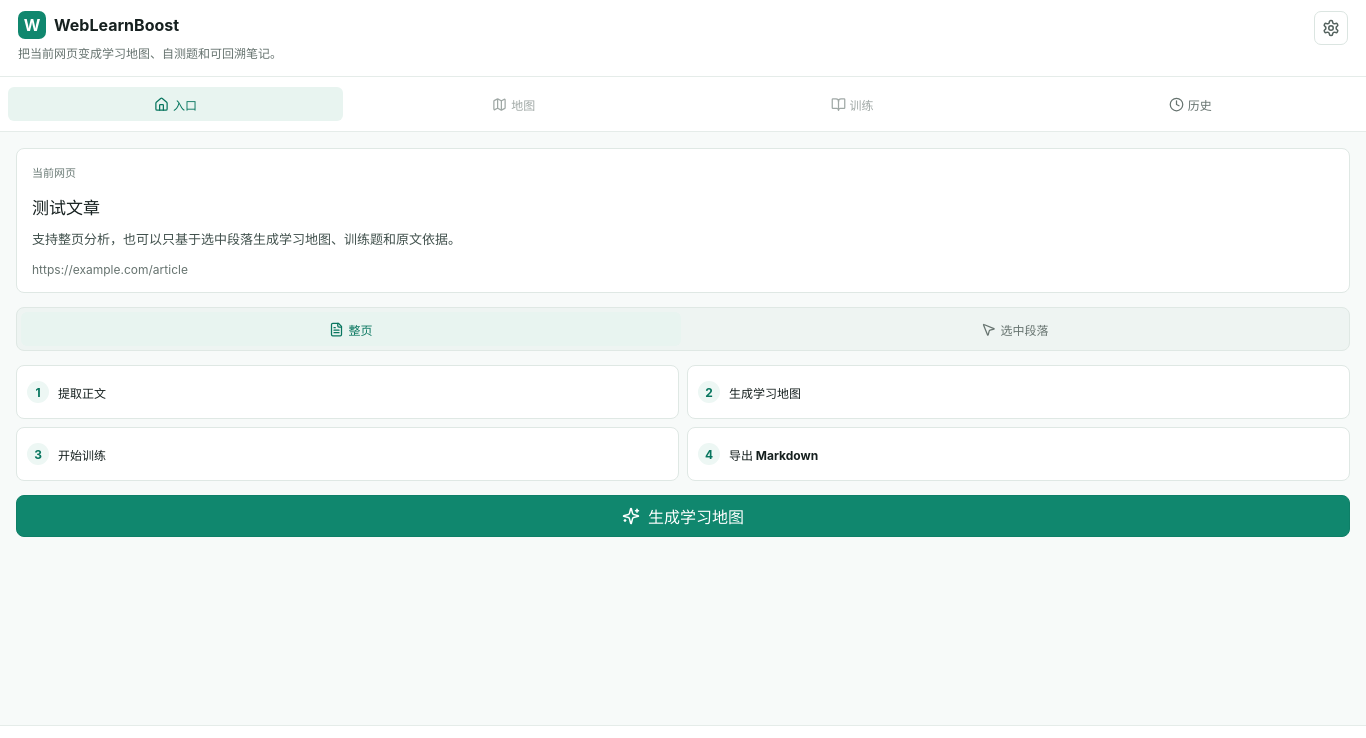
Test: AppView learning flow › keeps the user on a wrong question and marks the error clearly
Click the button "生成学习地图". click: x=683, y=516
box: [16,496,1350,538]
(page scrolled)
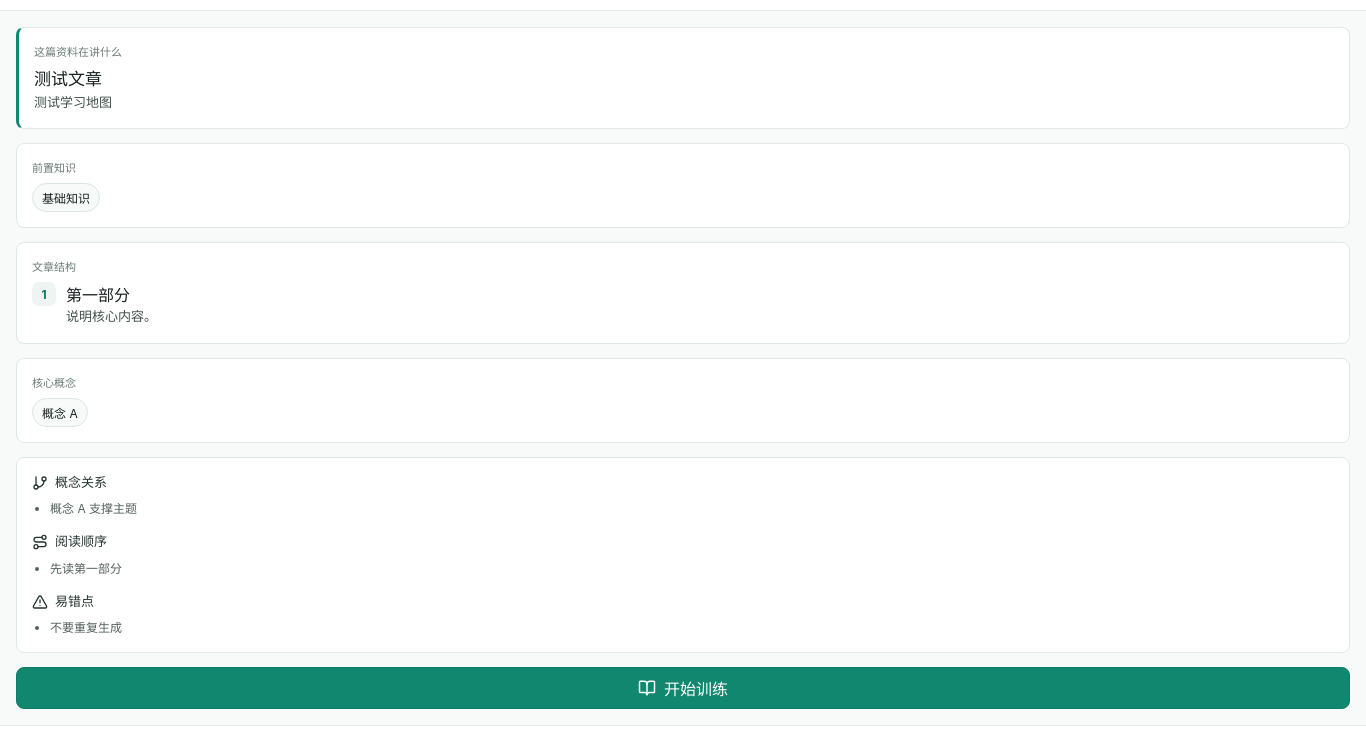
Click the button "开始训练". click: x=683, y=688
box: [16,667,1350,709]
(page scrolled)
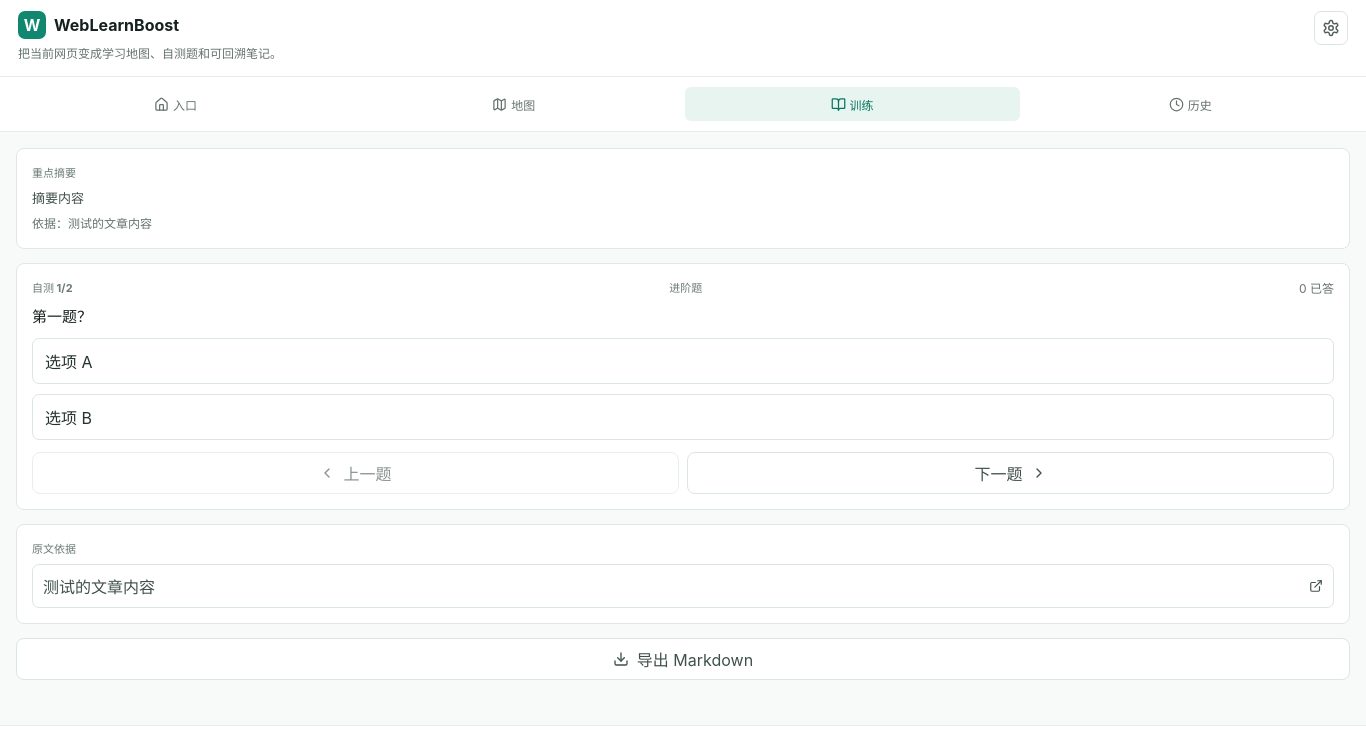
Click the button "选项 B". click: x=68, y=418
box: [32,394,1334,440]
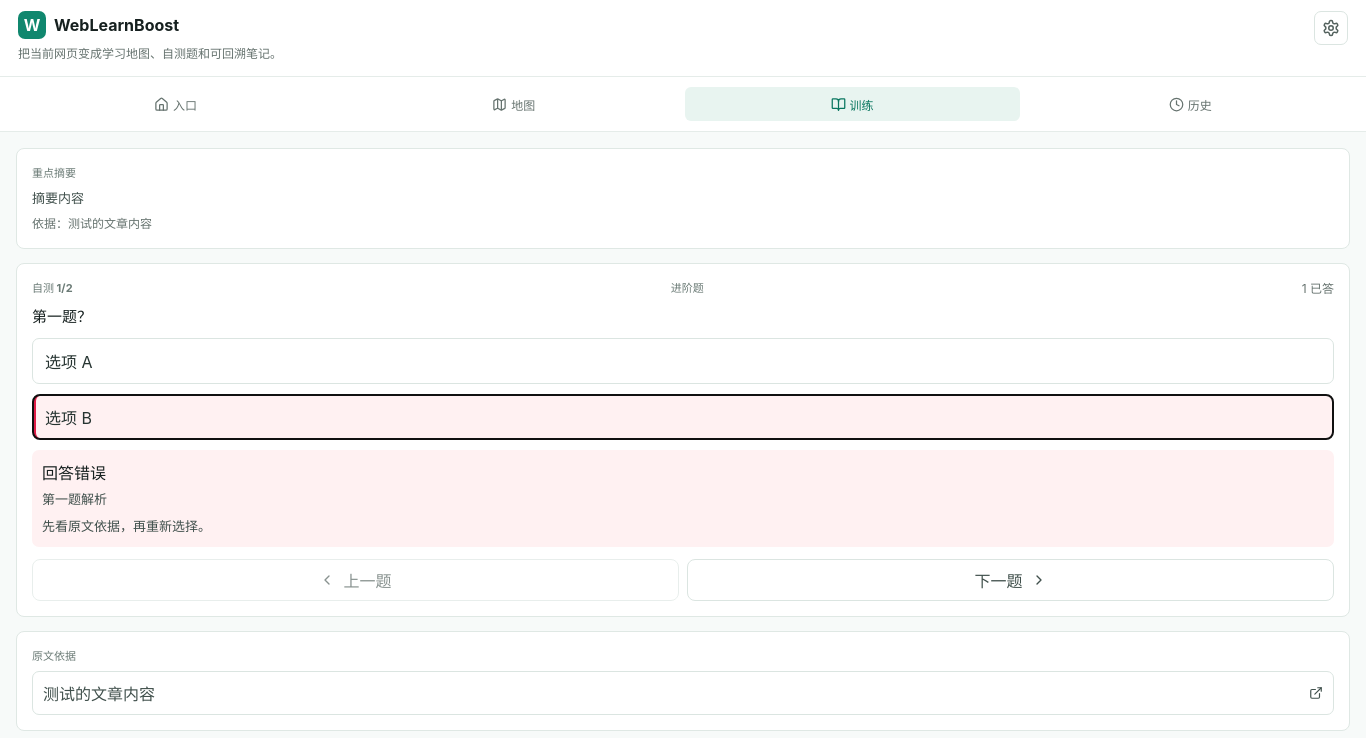
Expected: the heading "第一题？" is shown, [32,307,92,326]
Expected: the button "下一题" is enabled
Expected: the text "回答错误" is shown, [42,463,106,483]
Click the button "下一题". click: x=1010, y=580
box: [687,559,1334,601]
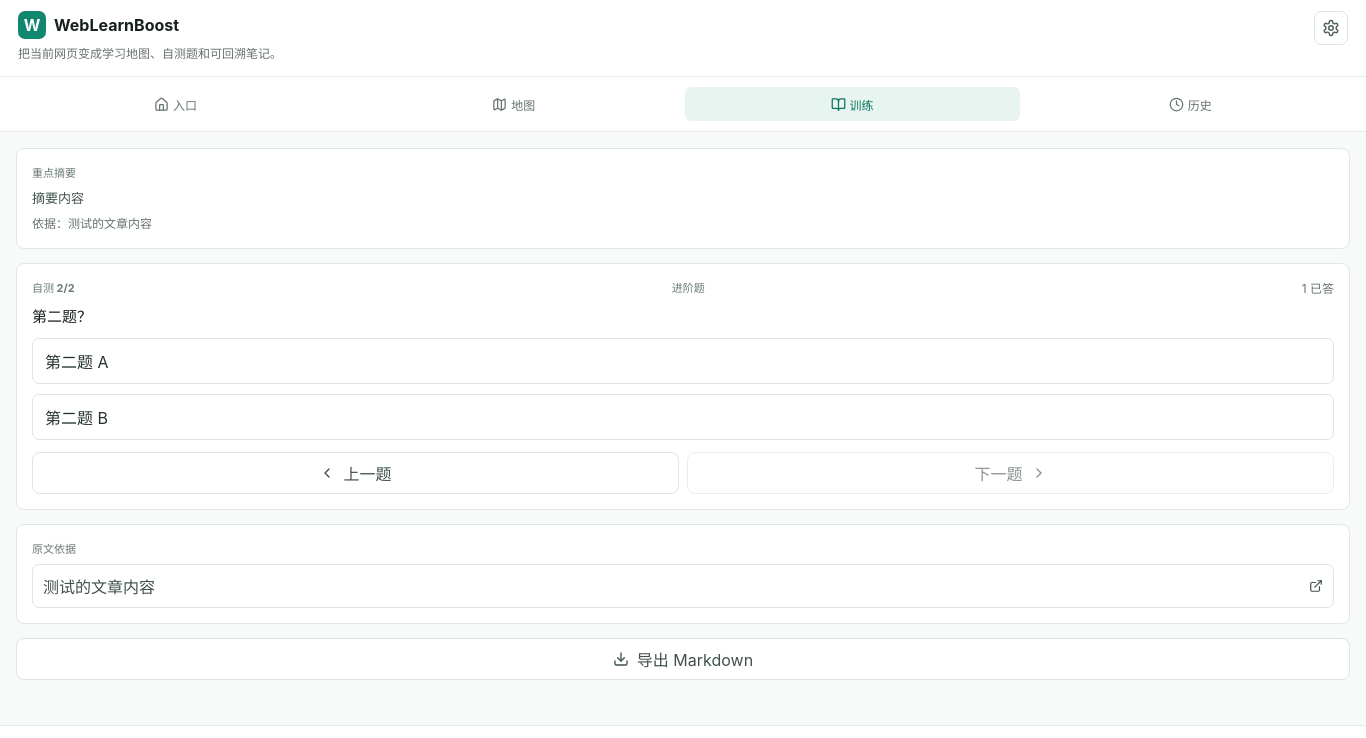
Expected: the heading "第二题？" is shown, [32,307,92,326]
